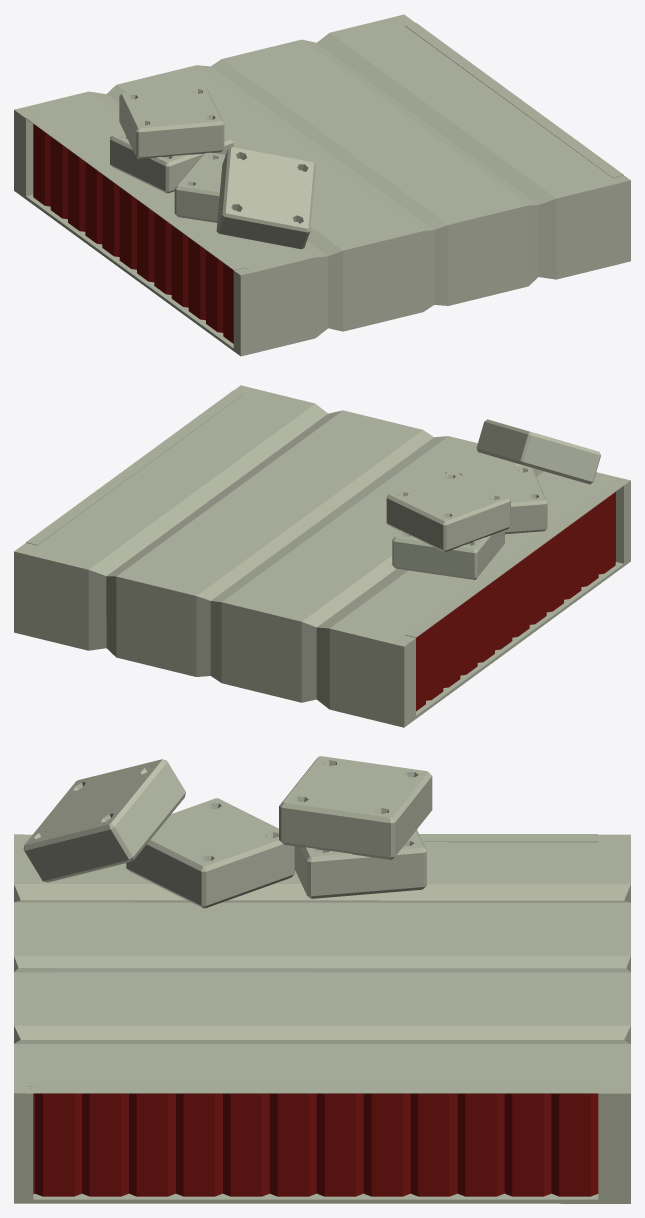
Rendered from bridgeSmall.fbx.
3 views of the same model, one above another, from view 1: azimuth 30°, elevation 25°; view 2: azimuth 150°, elevation 25°; view 3: azimuth 270°, elevation 25° (orthographic). The views are drawn at different scales.
Visible parts, largest first — view 1: BridgeSmall; view 2: BridgeSmall; view 3: BridgeSmall.
Part boxes in pixels (x1,y1,x2,y2): BridgeSmall: (14,14,630,356); BridgeSmall: (14,385,630,727); BridgeSmall: (14,756,630,1203).
Bounding box in the file's own units: 500 × 194 × 503.
